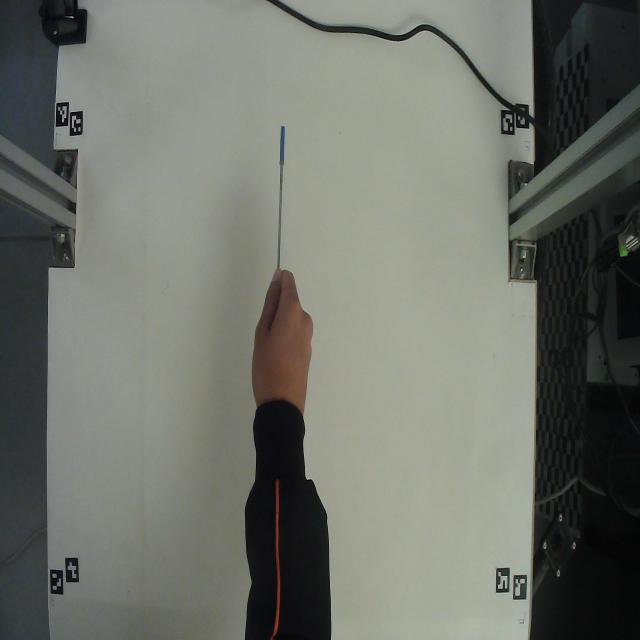NoPres: (265, 75, 303, 275)
